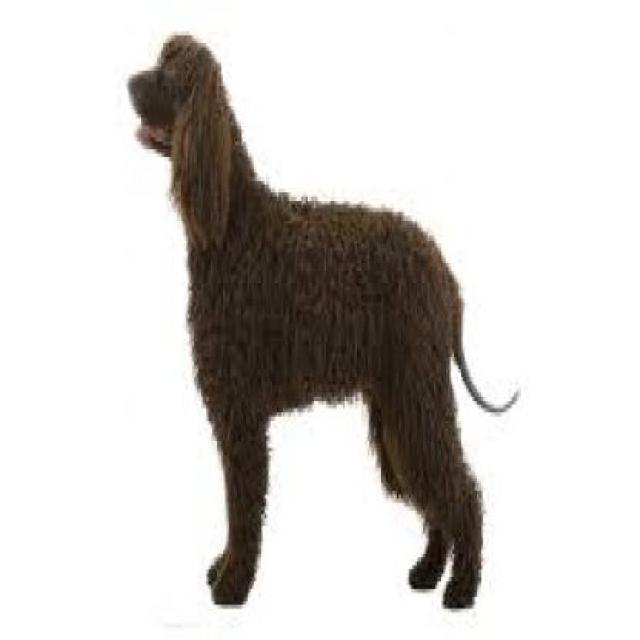animals: (104, 17, 550, 628)
